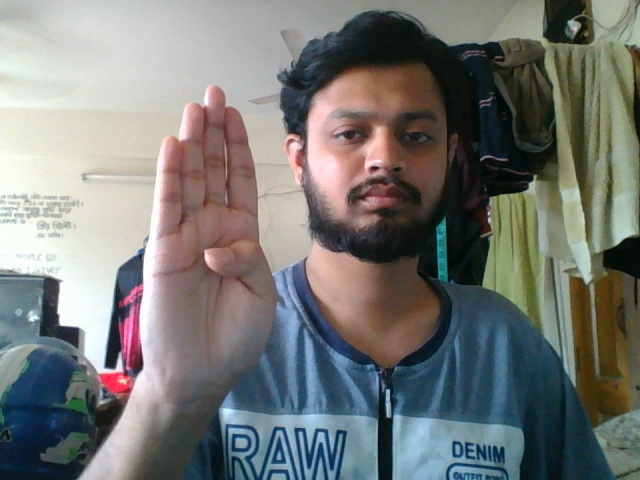ba: (141, 81, 281, 434)
